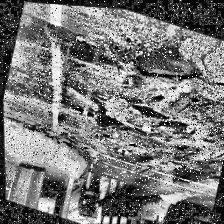pothole: (15, 10, 121, 74), (130, 30, 206, 91), (150, 108, 196, 142), (128, 99, 170, 123), (92, 109, 124, 133)
